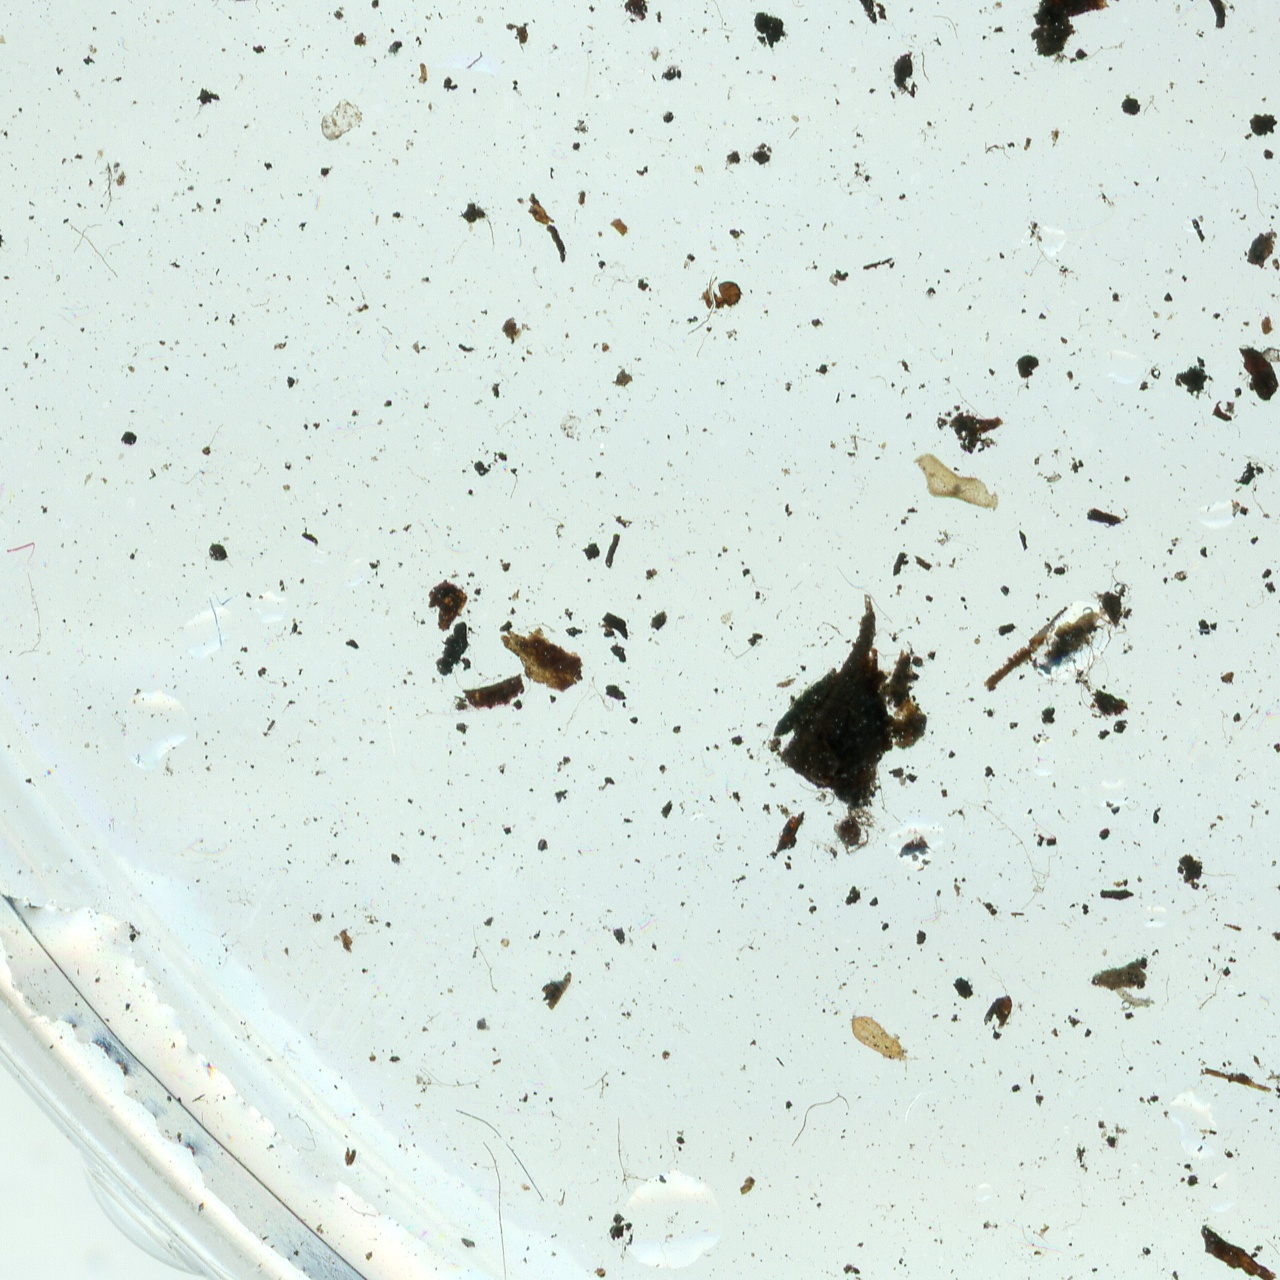arthropod: (837, 1002, 928, 1084)
